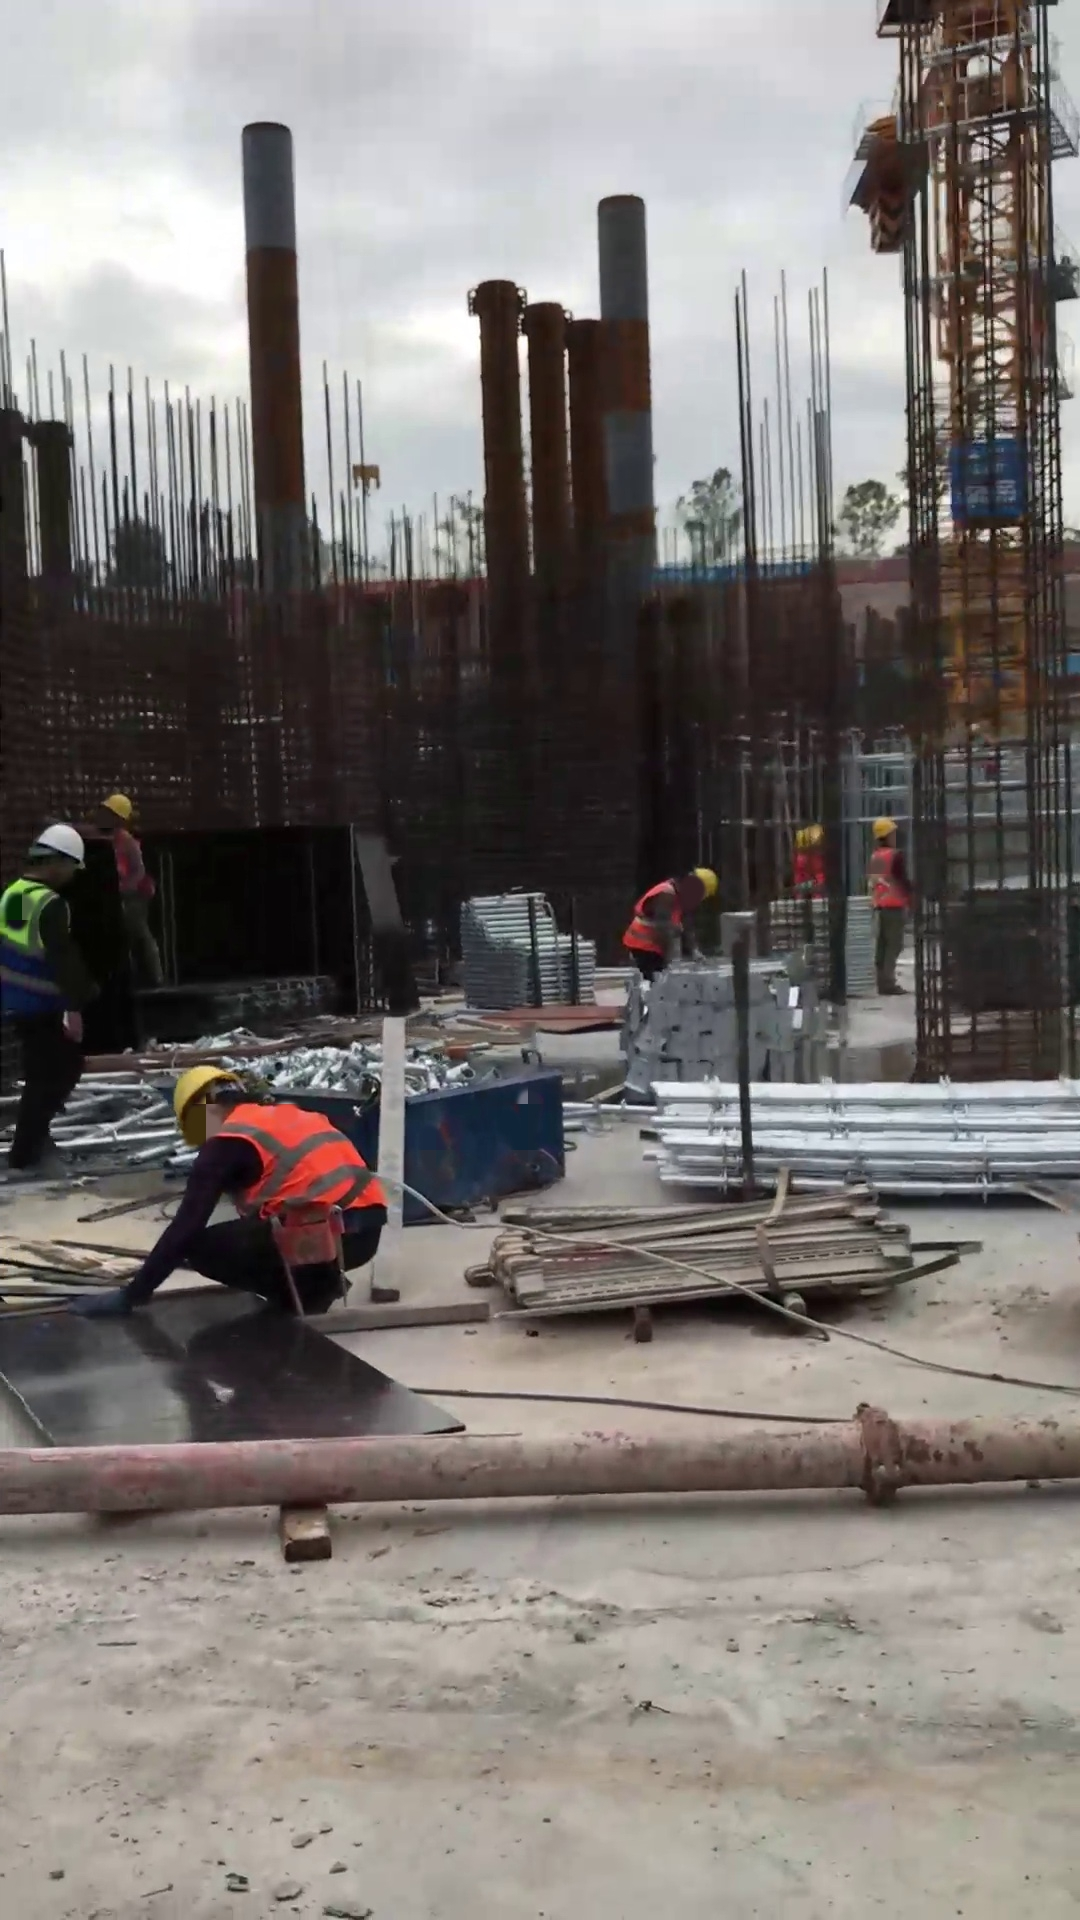helmet: (163, 1060, 249, 1129), (20, 820, 90, 875), (94, 789, 135, 825), (692, 865, 718, 903), (792, 820, 823, 851), (869, 816, 900, 842)
hook: (350, 458, 383, 500)
hopper: (280, 1072, 568, 1216)
person: (63, 1060, 394, 1321), (1, 821, 91, 1179), (93, 789, 169, 988), (619, 863, 718, 986), (862, 817, 913, 1000)
scaffold: (635, 1073, 1080, 1200), (457, 888, 596, 1009)
vest: (208, 1103, 385, 1214), (1, 880, 75, 1013), (622, 877, 690, 960), (102, 829, 155, 903), (866, 846, 908, 909), (791, 852, 825, 897)
